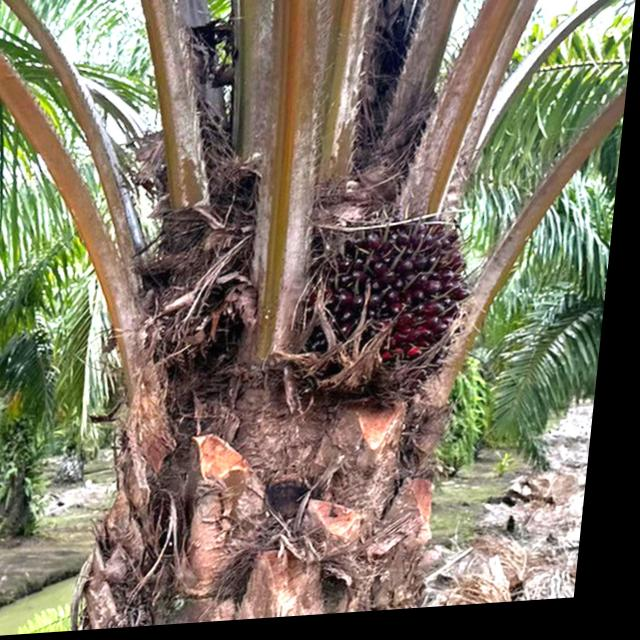ripe: (280, 196, 500, 404)
